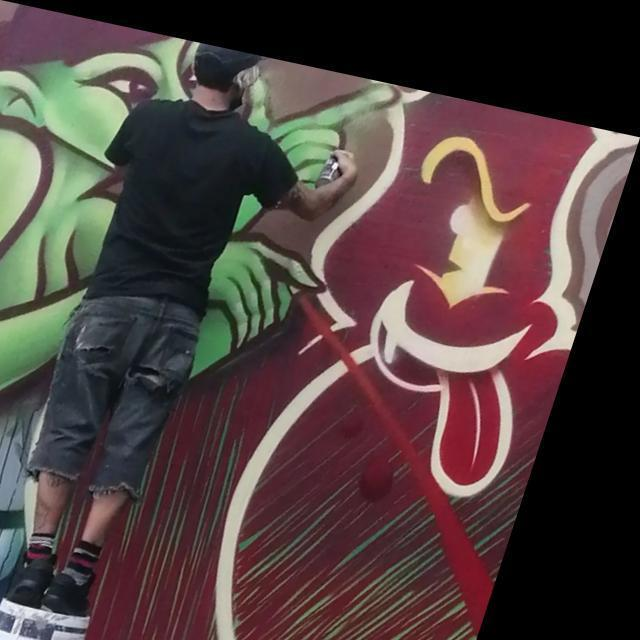-: (212, 71, 638, 640), (0, 0, 409, 531)
